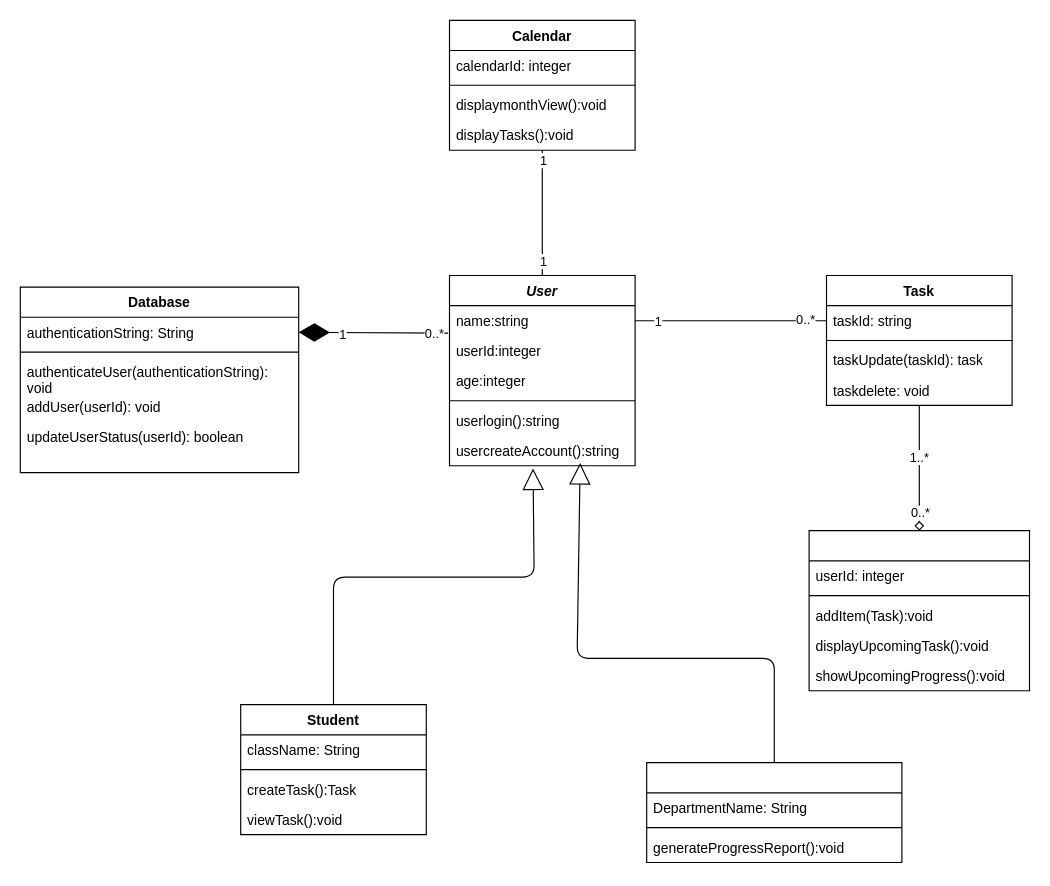
The diagram is 1050 pixels wide and 886 high, and some of its shapes have lost their labels. The shapes that lost their labels are listed below. From the top down, each one's box as (x1, y1, x2, y2) in pixels, then its label:
(808, 530, 1030, 691): Dashboard
(646, 762, 902, 862): Admin
